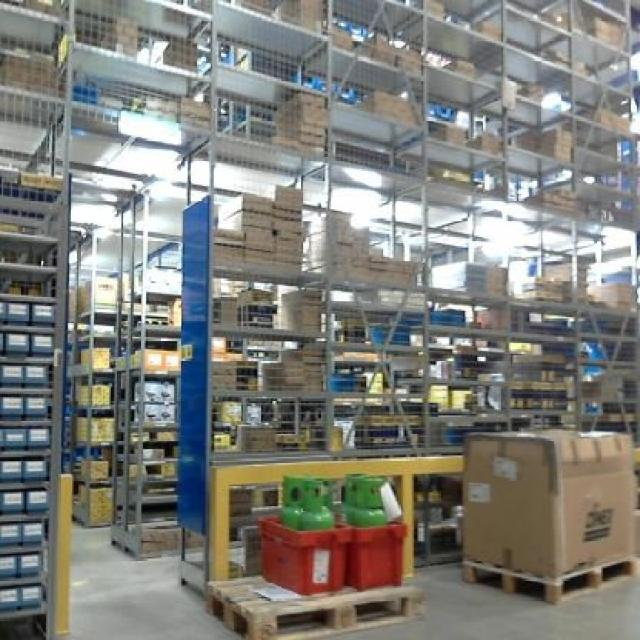pallets: (463, 429, 631, 586)
